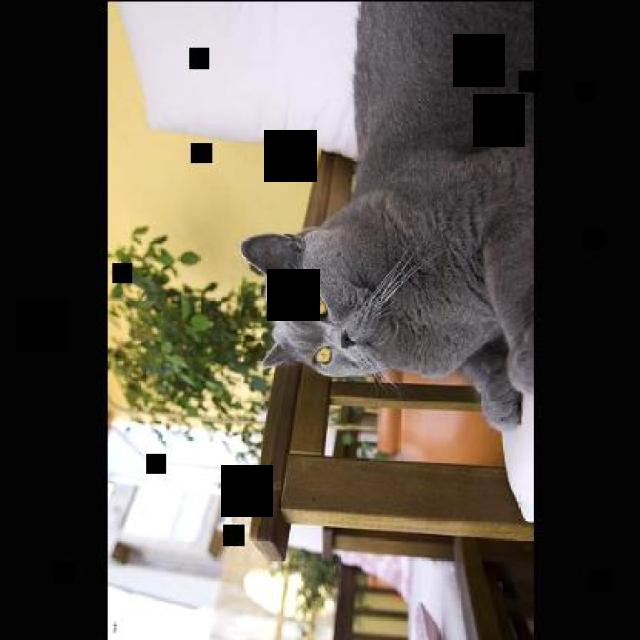unauthorized: (238, 0, 534, 434)
